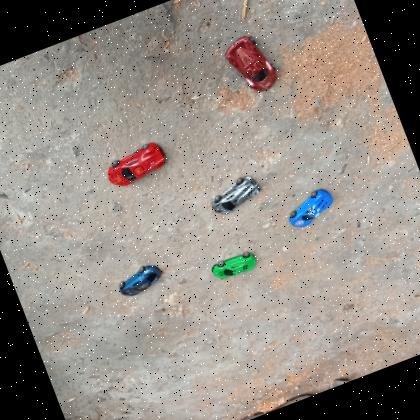Car: (222, 30, 283, 100), (101, 138, 171, 192), (206, 172, 266, 219), (282, 185, 340, 233), (114, 260, 166, 300), (209, 248, 260, 284)
